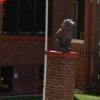Statue: (42, 14, 86, 60)
